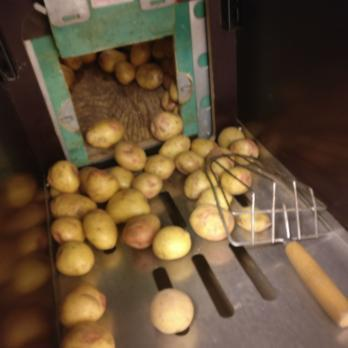Floury potato: (106, 146, 214, 260), (47, 153, 110, 348), (99, 37, 169, 90), (148, 286, 198, 337), (86, 115, 126, 150), (148, 109, 187, 142)
